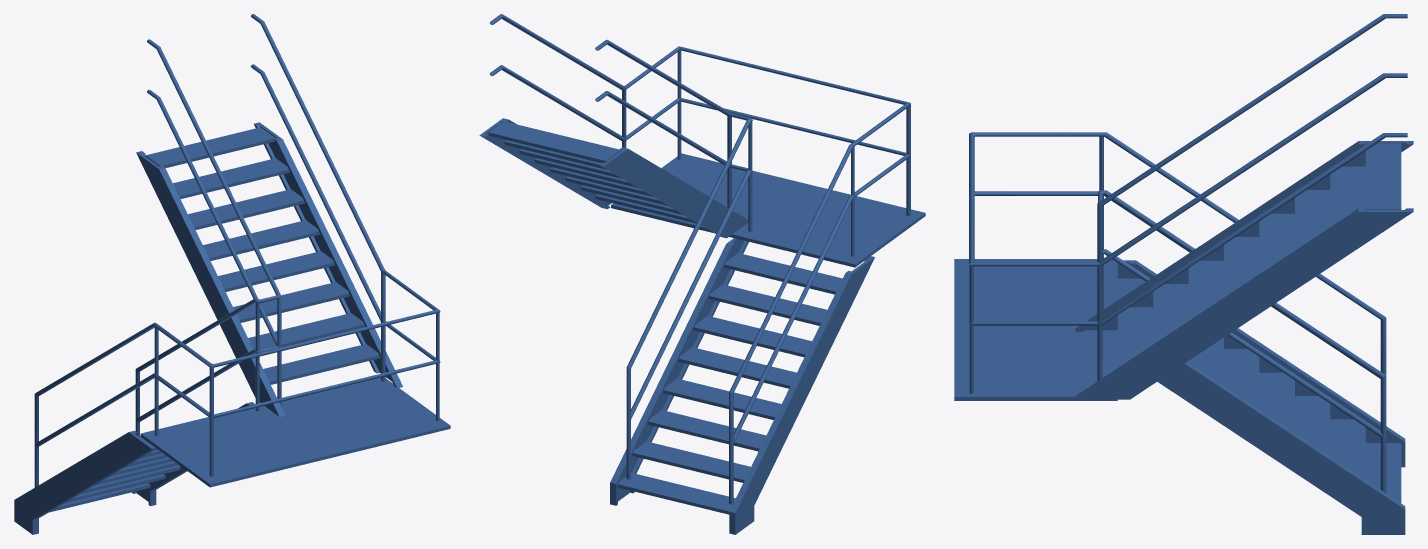
Rendered from Stair1.FBX.
The picture shows the model from 3 angles, left to right: view 1: azimuth 30°, elevation 25°; view 2: azimuth 150°, elevation 25°; view 3: azimuth 270°, elevation 25°; orthographic projection. The views are drawn at different scales.
Parts seen in each view (by area): view 1: Stair1; view 2: Stair1; view 3: Stair1.
Part boxes in pixels (bbox=[...]): Stair1: bbox=[14, 14, 450, 534]; Stair1: bbox=[479, 14, 925, 534]; Stair1: bbox=[954, 14, 1413, 534].
Bounding box in the file's own units: 2483 × 4273 × 3372.
